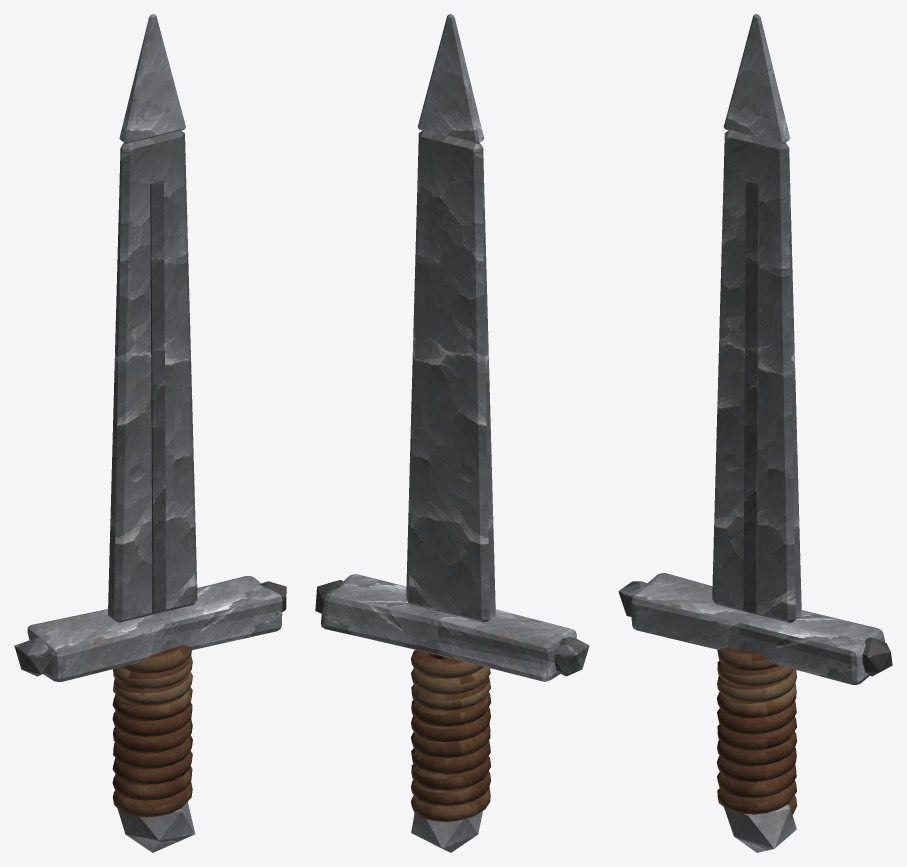
File: sword_silver.glb
3 views of the same model, side by side, from view 1: azimuth 30°, elevation 25°; view 2: azimuth 150°, elevation 25°; view 3: azimuth 330°, elevation 25° (orthographic).
Parts seen in each view (by area): view 1: model; view 2: model; view 3: model.
Part boxes in pixels (x1,y1,x2,y2): model: (14, 14, 286, 852); model: (315, 14, 589, 852); model: (618, 14, 892, 852).
Bounding box in the file's own units: 0.2533 × 0.764 × 0.067.
Materials: 6 (6 with a texture image).
